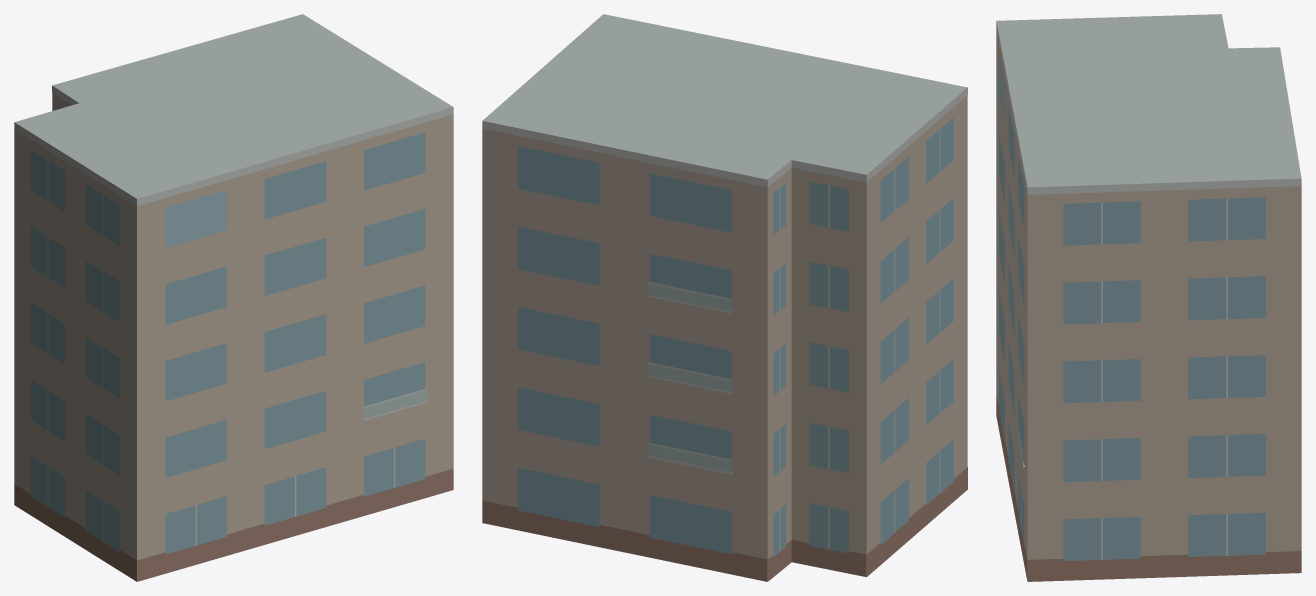
The model's file is survey-upis-32981738.glb.
3 views of the same model, side by side, from view 1: azimuth 30°, elevation 25°; view 2: azimuth 150°, elevation 25°; view 3: azimuth 270°, elevation 25° (orthographic). The views are drawn at different scales.
Visible parts, largest first — view 1: survey-upis-32981738.tmp; view 2: survey-upis-32981738.tmp; view 3: survey-upis-32981738.tmp.
Boxes of the visible parts, x1,y1,x2,y2 form: survey-upis-32981738.tmp: (14, 14, 453, 581); survey-upis-32981738.tmp: (482, 14, 967, 581); survey-upis-32981738.tmp: (996, 14, 1301, 581).
Size of the model in its own units: 12.18 by 12.9 by 9.06.
